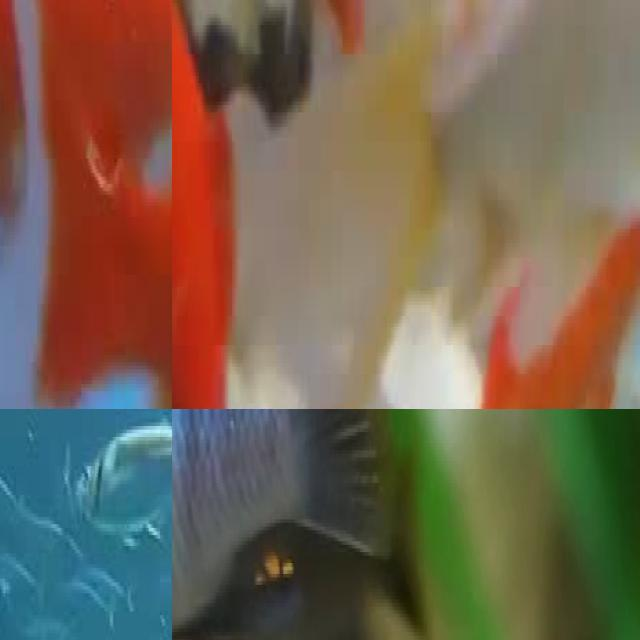fish: (0, 0, 172, 409), (77, 409, 172, 539)
